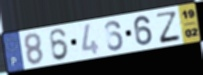4: (80, 23, 100, 57)
6: (48, 27, 69, 62), (133, 15, 154, 47), (104, 20, 125, 52)
8: (23, 32, 46, 66)
Z: (155, 10, 183, 45)
